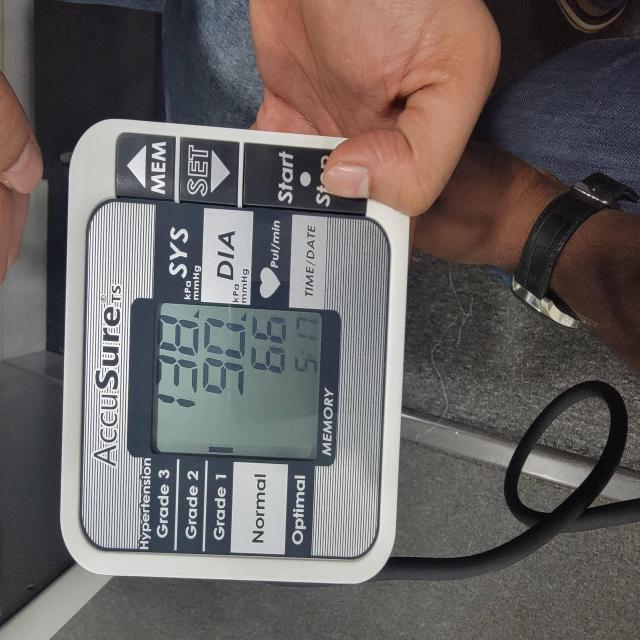bp: (47, 102, 408, 598)
